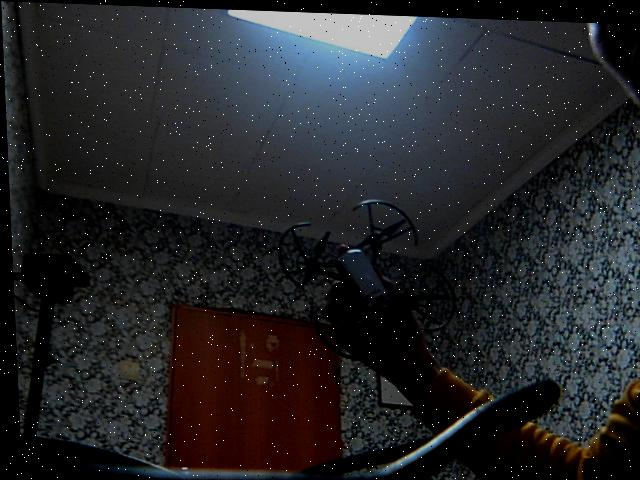drone: (265, 182, 463, 363)
